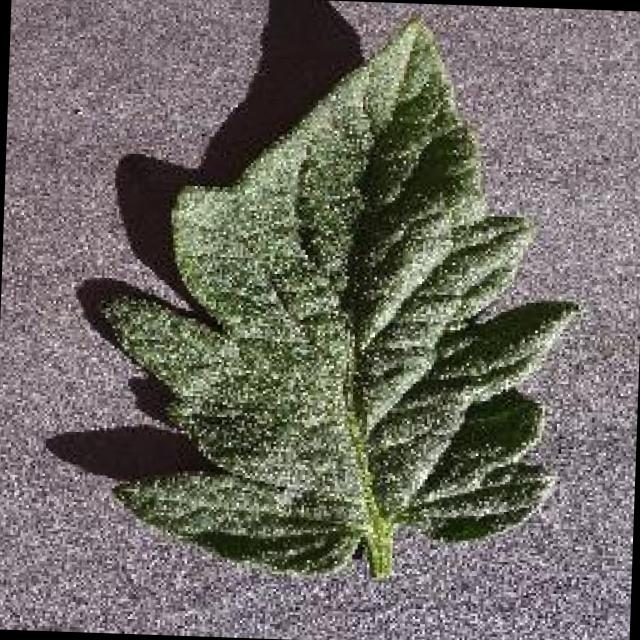Tomato_Healthy: (97, 2, 597, 592)
